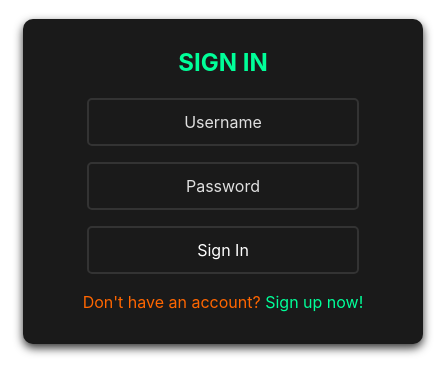
Test: SignInForm Component › displays a success toast and redirects on successful login
Type "testuser" into the field with placeholder "Username". click: (223, 122)
box: [87, 98, 359, 146]
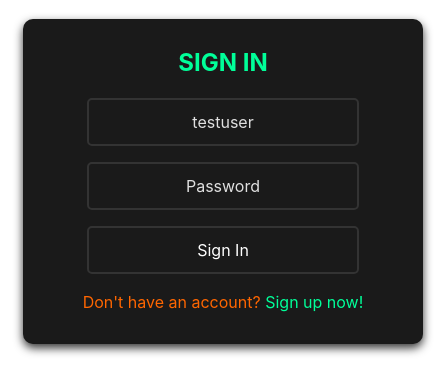
Type "testpassword" into the password field with placeholder "Password". click: (223, 186)
box: [87, 162, 359, 210]
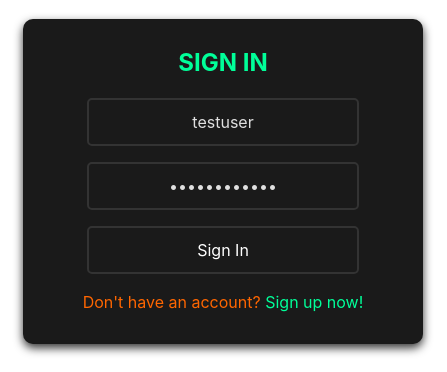
Click the button "Sign In". click: (223, 250)
box: [87, 226, 359, 274]
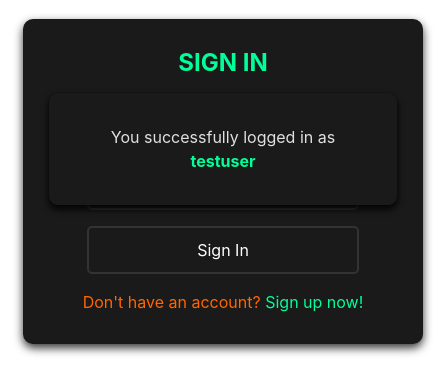
Now the text "You successfully logged in as testuser" is shown, box [111, 127, 335, 171]
Now the text "testuser" is shown, box [190, 151, 256, 171]
